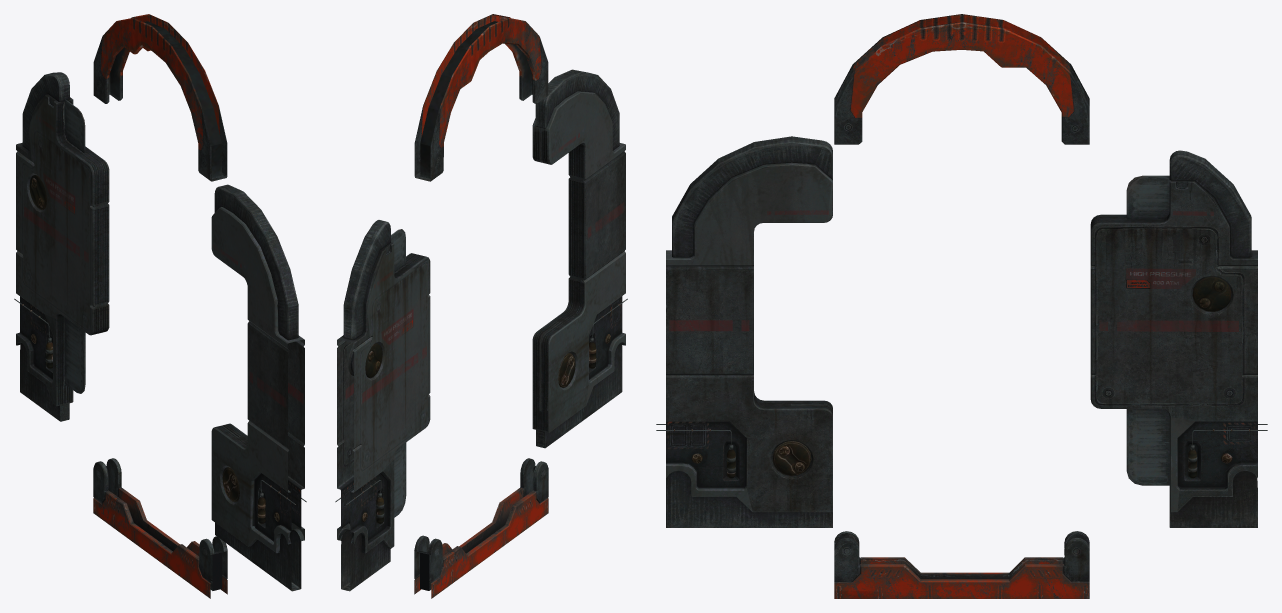
File: slidedoor_tau_small_open.dae
3 renders of one model, left to right at view 1: azimuth 30°, elevation 25°; view 2: azimuth 150°, elevation 25°; view 3: azimuth 270°, elevation 25°, orthographic. The views are drawn at different scales.
Visible parts, largest first — view 1: polySurface561, polySurface559, pCube5, polySurface563, polySurface562, polySurface560; view 2: polySurface559, polySurface561, pCube5, polySurface563, polySurface560, polySurface562; view 3: polySurface559, polySurface561, pCube5, polySurface563, polySurface562, polySurface560.
Part boxes in pixels (bbox=[...]): polySurface561: bbox=[211, 184, 306, 591]; polySurface559: bbox=[14, 72, 109, 421]; pCube5: bbox=[93, 14, 227, 181]; polySurface563: bbox=[93, 458, 227, 598]; polySurface562: bbox=[29, 175, 46, 209]; polySurface560: bbox=[222, 467, 239, 501]; polySurface559: bbox=[335, 220, 430, 591]; polySurface561: bbox=[532, 69, 627, 448]; pCube5: bbox=[414, 14, 548, 181]; polySurface563: bbox=[414, 458, 548, 598]; polySurface560: bbox=[558, 353, 575, 387]; polySurface562: bbox=[365, 343, 382, 377]; polySurface559: bbox=[1090, 150, 1267, 527]; polySurface561: bbox=[656, 136, 832, 527]; pCube5: bbox=[834, 14, 1089, 144]; polySurface563: bbox=[834, 531, 1089, 598]; polySurface562: bbox=[1192, 276, 1231, 311]; polySurface560: bbox=[772, 441, 811, 475].
Size of the model in its own units: 0.1331 by 3.79 by 3.64.
